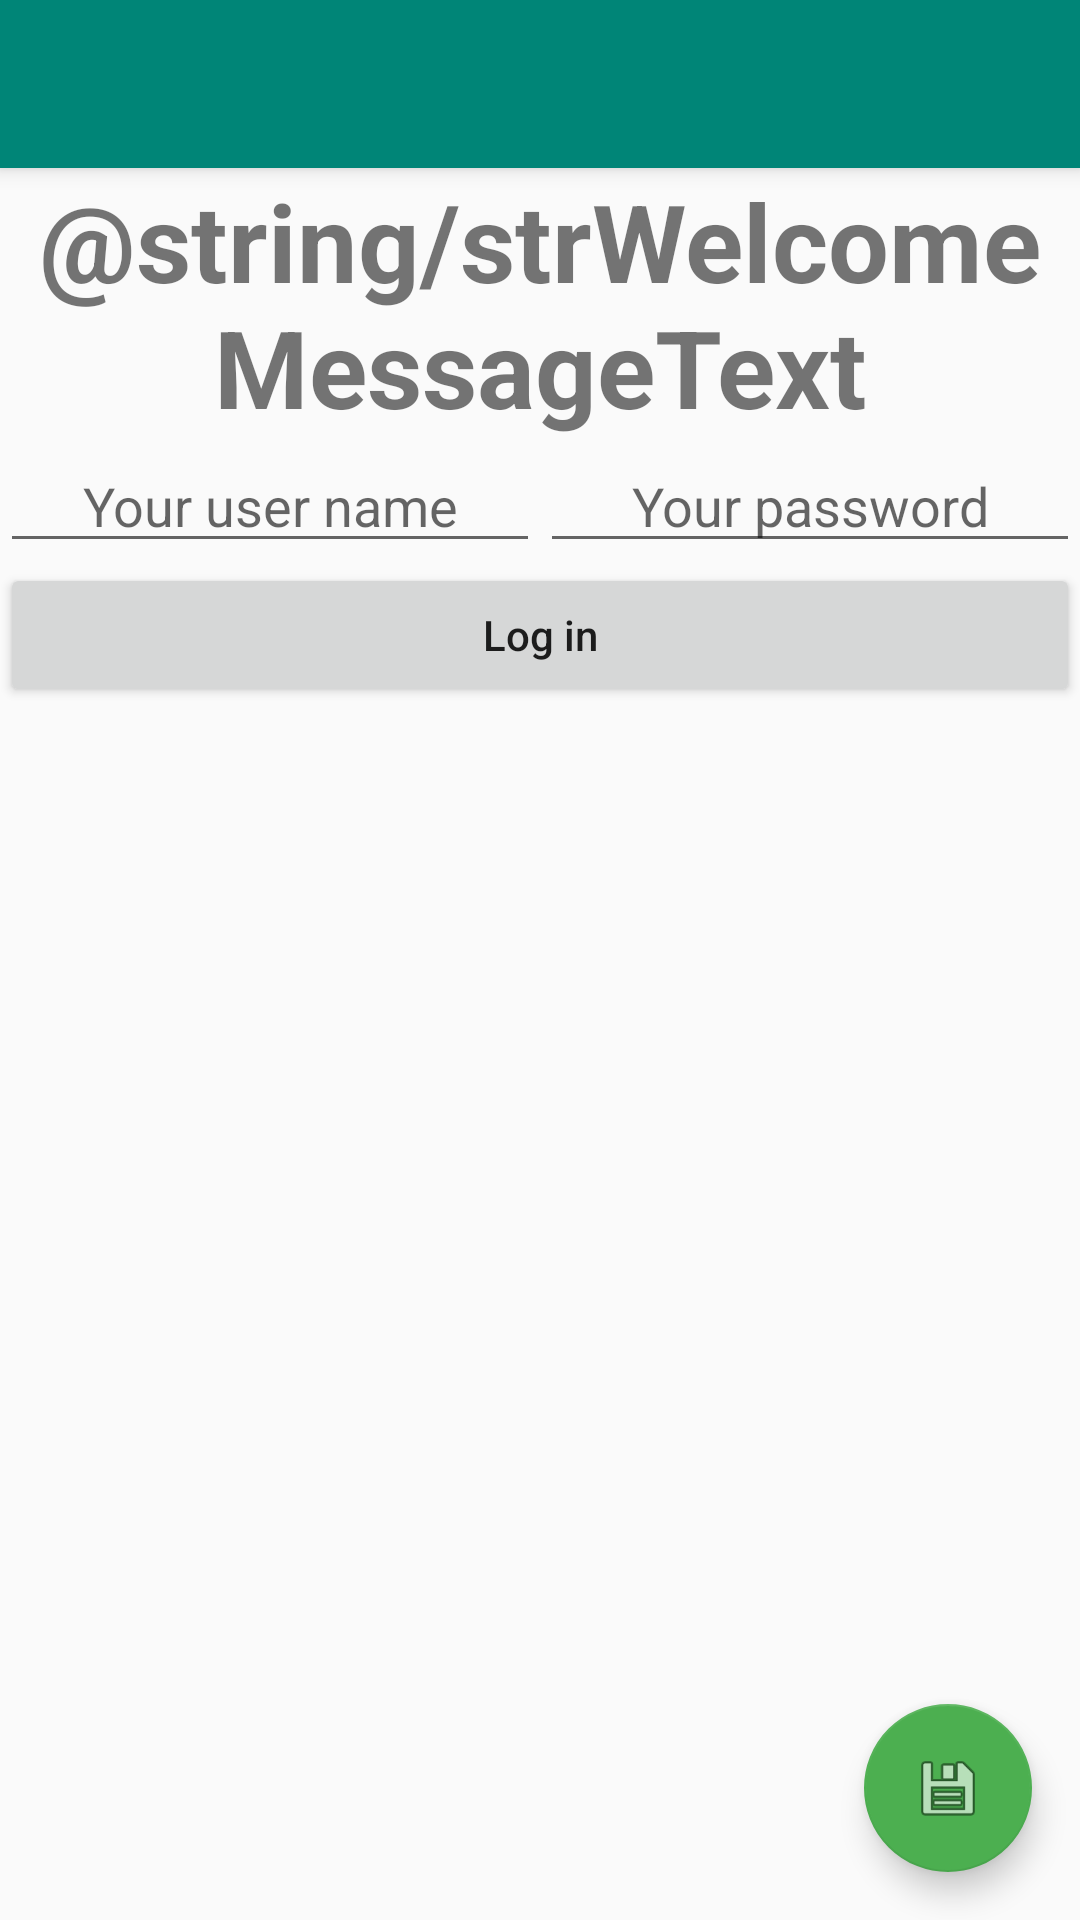

Icons on this 1080px×1920px Android screen, each with the point to tap as point (x, y):
save: point (948, 1788)
